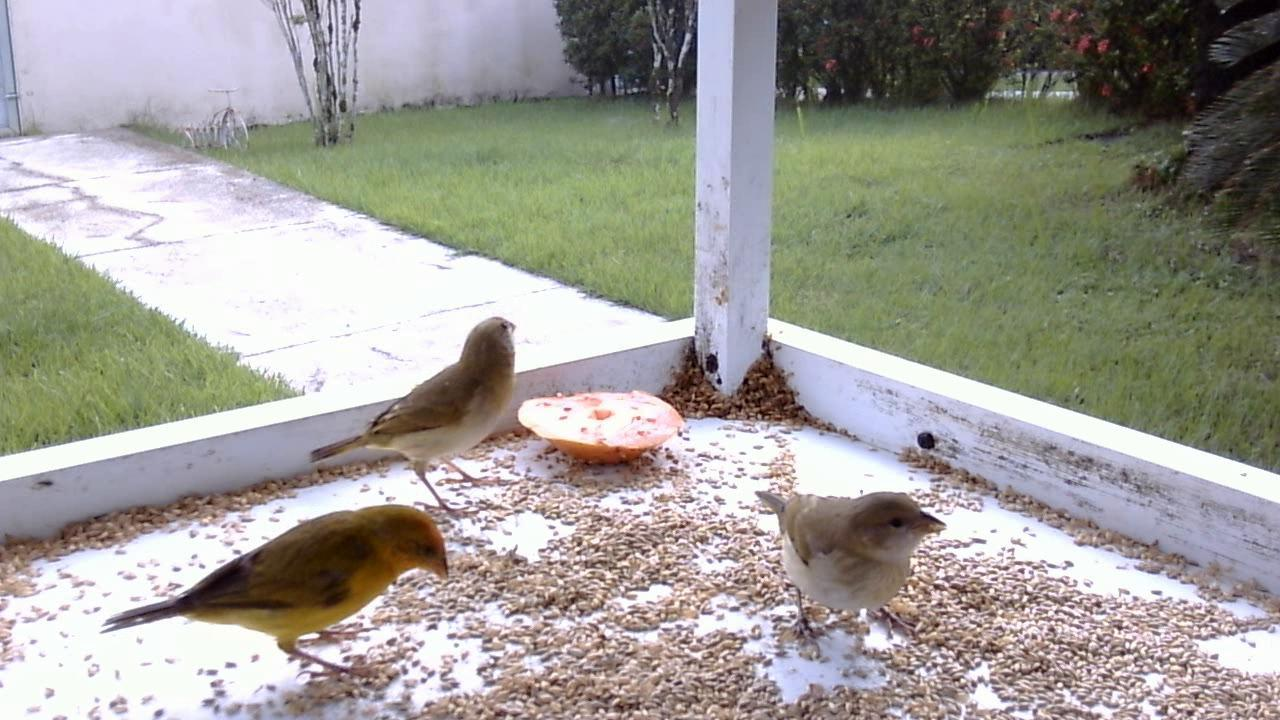canario_do_amazonas: (89, 497, 452, 683), (299, 308, 528, 518), (751, 482, 947, 658)
